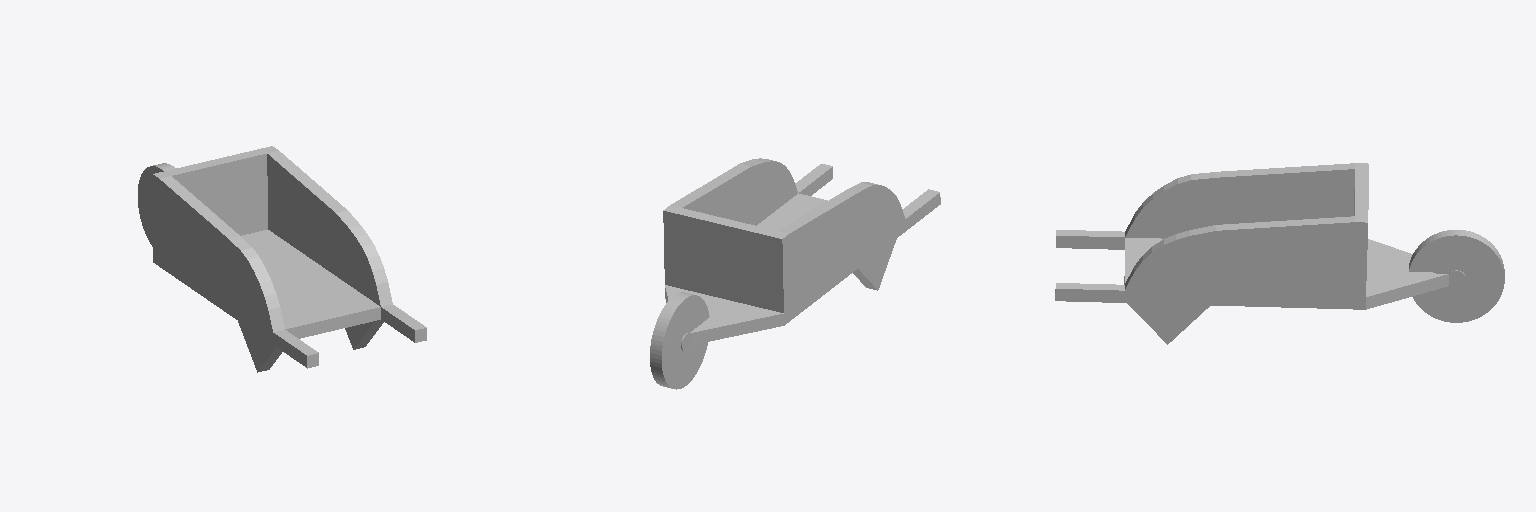
The model's file is Wheelbarrow.obj.
The picture shows the model from 3 angles: view 1: azimuth 30°, elevation 25°; view 2: azimuth 150°, elevation 25°; view 3: azimuth 270°, elevation 25°; orthographic projection.
Visible parts, largest first — view 1: Cube; view 2: Cube; view 3: Cube.
Part boxes in pixels (left/top/right/bottom): Cube: left=138, top=146, right=426, bottom=372; Cube: left=650, top=158, right=940, bottom=389; Cube: left=1055, top=163, right=1504, bottom=344.
Bounding box in the file's own units: 2.03 × 2.05 × 6.51.